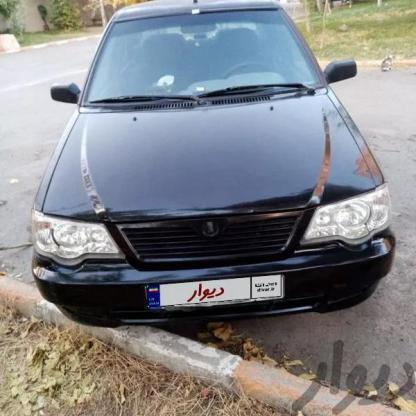Car: (18, 0, 414, 348)
